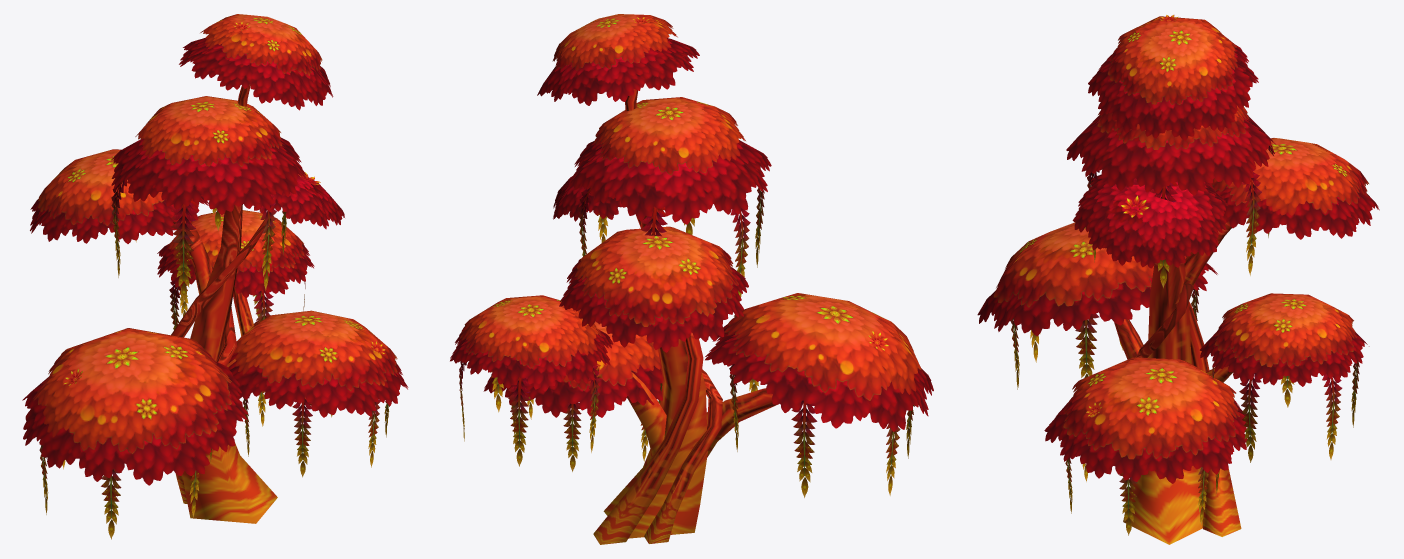
The model's file is Red_Tree_08d.FBX.
The picture shows the model from 3 angles, left to right: view 1: azimuth 30°, elevation 25°; view 2: azimuth 150°, elevation 25°; view 3: azimuth 270°, elevation 25°; orthographic projection. The views are drawn at different scales.
Parts seen in each view (by area): view 1: Red_Tree_08d; view 2: Red_Tree_08d; view 3: Red_Tree_08d.
Boxes of the visible parts, box(x1,y1,x2,y2) form: Red_Tree_08d: box(22, 14, 408, 539); Red_Tree_08d: box(450, 14, 933, 544); Red_Tree_08d: box(977, 15, 1379, 544).
Size of the model in its own units: 475 by 546 by 408.
